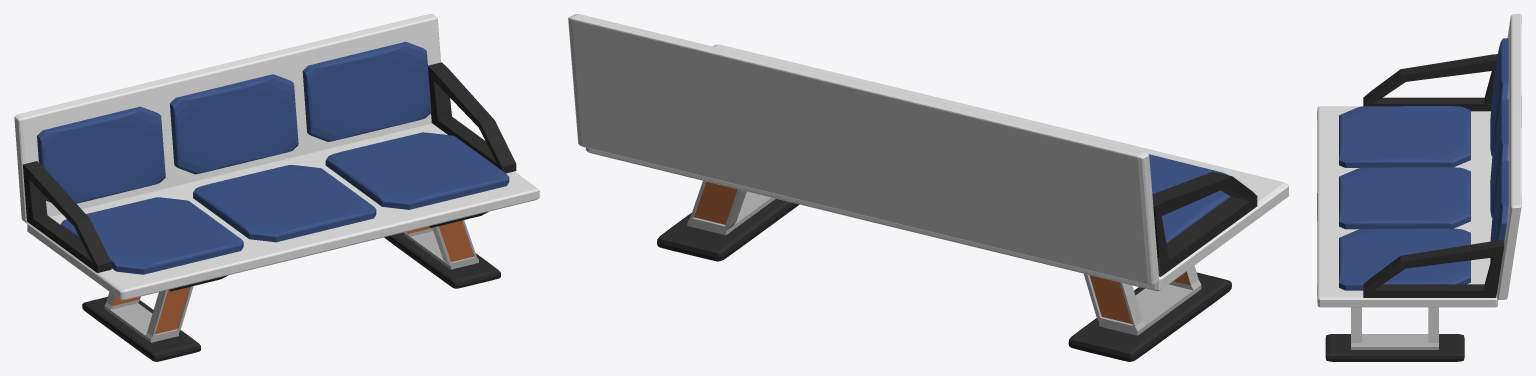
File: bench_arm.fbx
3 renders of one model, left to right at view 1: azimuth 30°, elevation 25°; view 2: azimuth 150°, elevation 25°; view 3: azimuth 270°, elevation 25°, orthographic. The views are drawn at different scales.
Parts seen in each view (by area): view 1: Plane.001; view 2: Plane.001; view 3: Plane.001.
Part boxes in pixels (<box>): Plane.001: <box>14,14,539,361</box>; Plane.001: <box>568,14,1288,361</box>; Plane.001: <box>1317,14,1521,361</box>.
Size of the model in its own units: 244 by 101 by 109.
